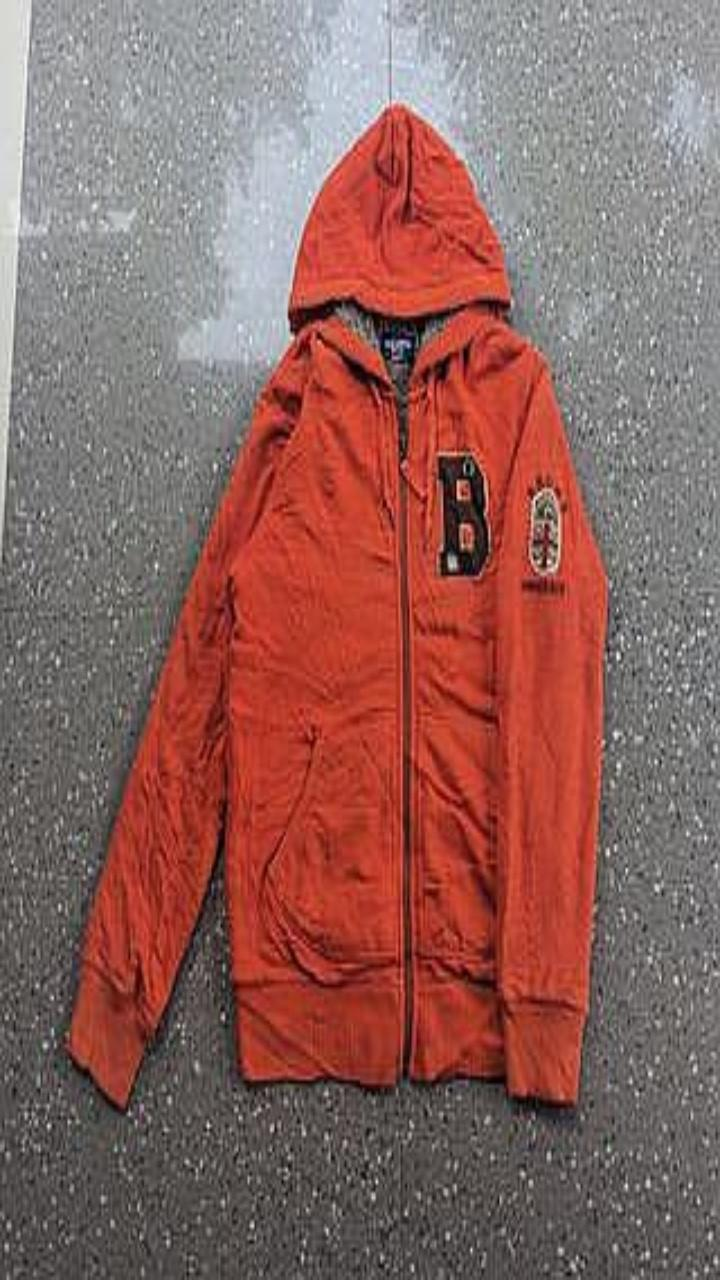Sports_Jacket: (64, 100, 607, 1108)
